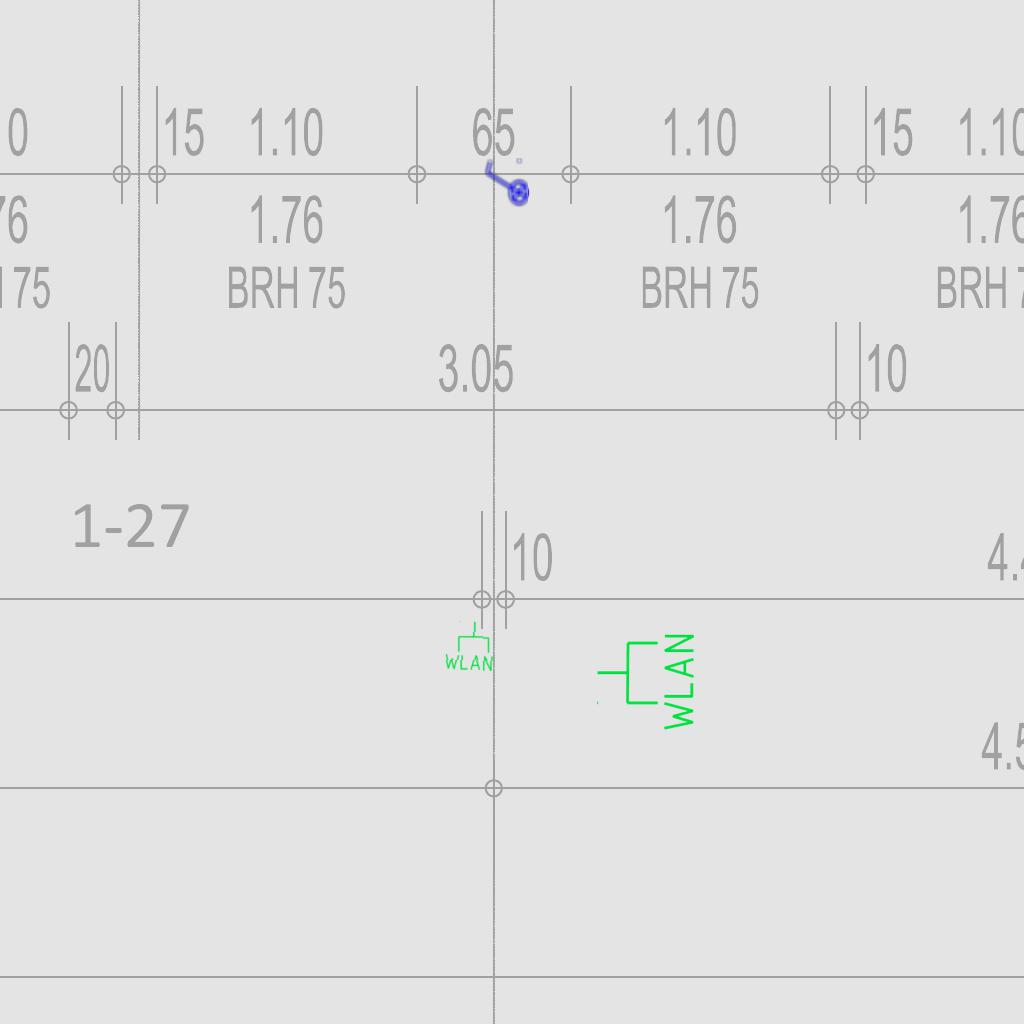Ausschalter_beleuchtet: (482, 156, 530, 212)
WLAN: (594, 630, 698, 735), (442, 619, 496, 673)
